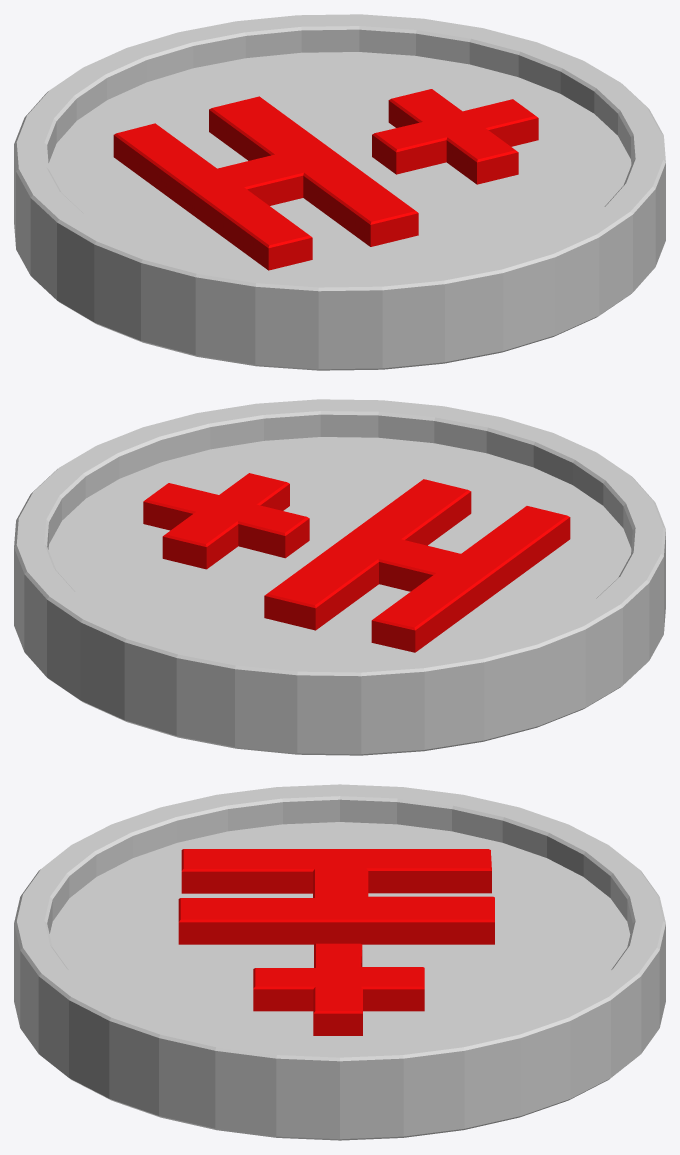
Rendered from RegenerationCoin.fbx.
3 views of the same model, one above another, from view 1: azimuth 30°, elevation 25°; view 2: azimuth 150°, elevation 25°; view 3: azimuth 270°, elevation 25° (orthographic).
Visible parts, largest first — view 1: Coin; view 2: Coin; view 3: Coin.
Boxes of the visible parts, <box> form: Coin: <box>14,14,665,370</box>; Coin: <box>14,399,665,755</box>; Coin: <box>14,784,665,1140</box>.
Size of the model in its own units: 200 by 28.06 by 200.
